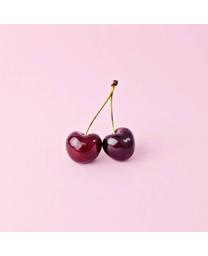cherry: (65, 131, 102, 165), (102, 128, 135, 162)
